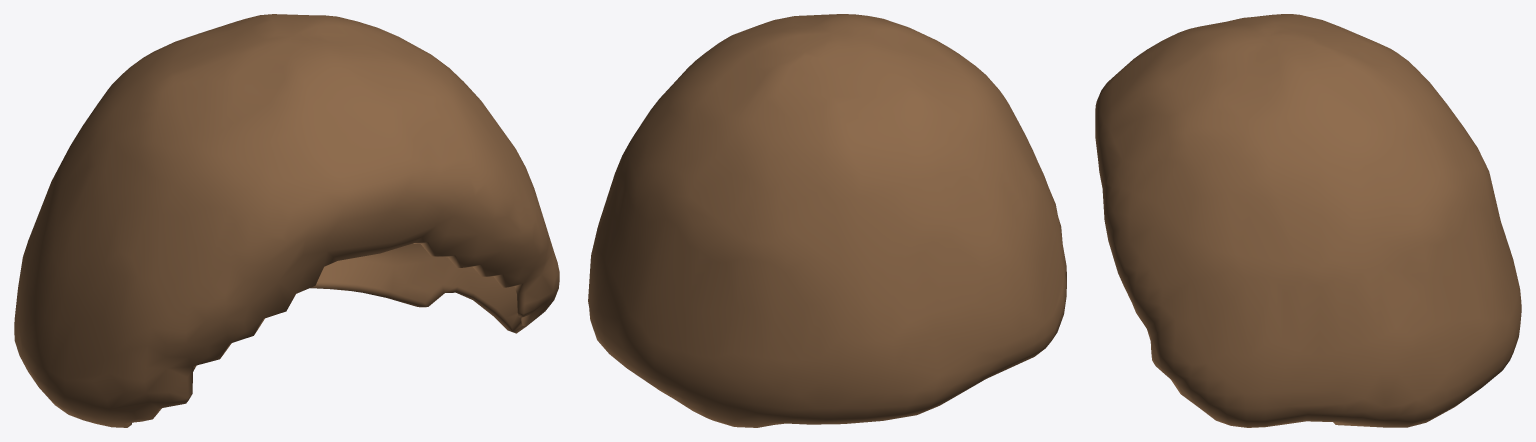
The model's file is m_wavy.glb.
The picture shows the model from 3 angles, left to right: view 1: azimuth 30°, elevation 25°; view 2: azimuth 150°, elevation 25°; view 3: azimuth 270°, elevation 25°; orthographic projection. The views are drawn at different scales.
Parts seen in each view (by area): view 1: m_wavy; view 2: m_wavy; view 3: m_wavy.
Part boxes in pixels (left/top/right/bottom): m_wavy: left=14, top=14, right=559, bottom=427; m_wavy: left=588, top=14, right=1066, bottom=427; m_wavy: left=1095, top=14, right=1521, bottom=427.
Bounding box in the file's own units: 2.42 × 1.74 × 2.02.
